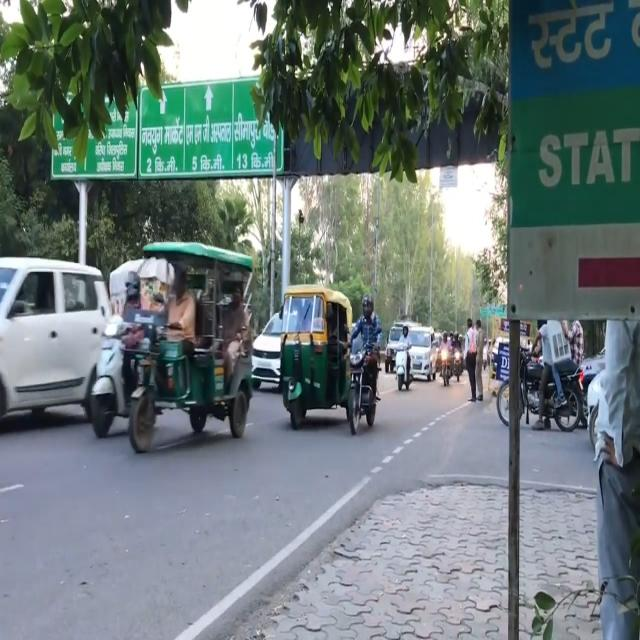Scooty: (394, 331, 412, 390)
